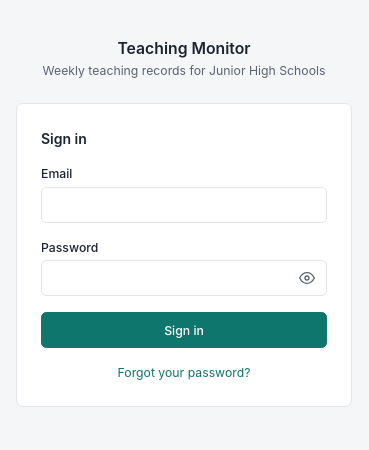
Test: login › shows the server message on wrong credentials
In the field labelled "Email": (184, 205) [41,187,327,223], type "kofi@test.example"
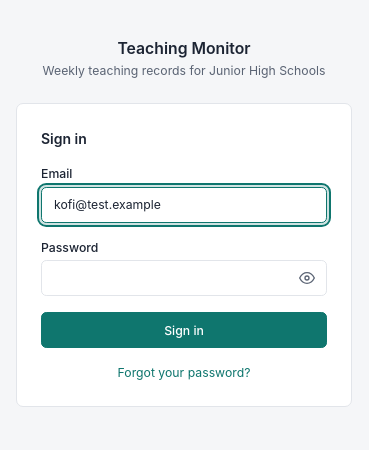
In the password field labelled "Password": (184, 278) [41,260,327,296], type "wrong-password"
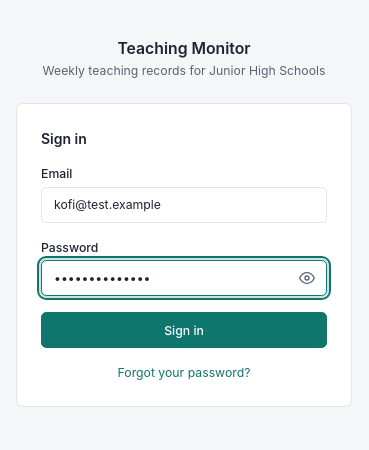
Click the button "Sign in": (184, 330) [41,312,327,348]
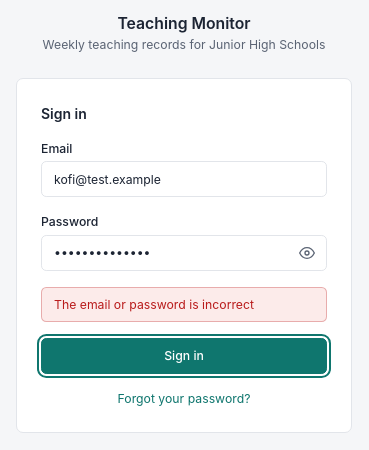
expect the message reads "The email or password is incorrect": met, box [54,296,254,312]
